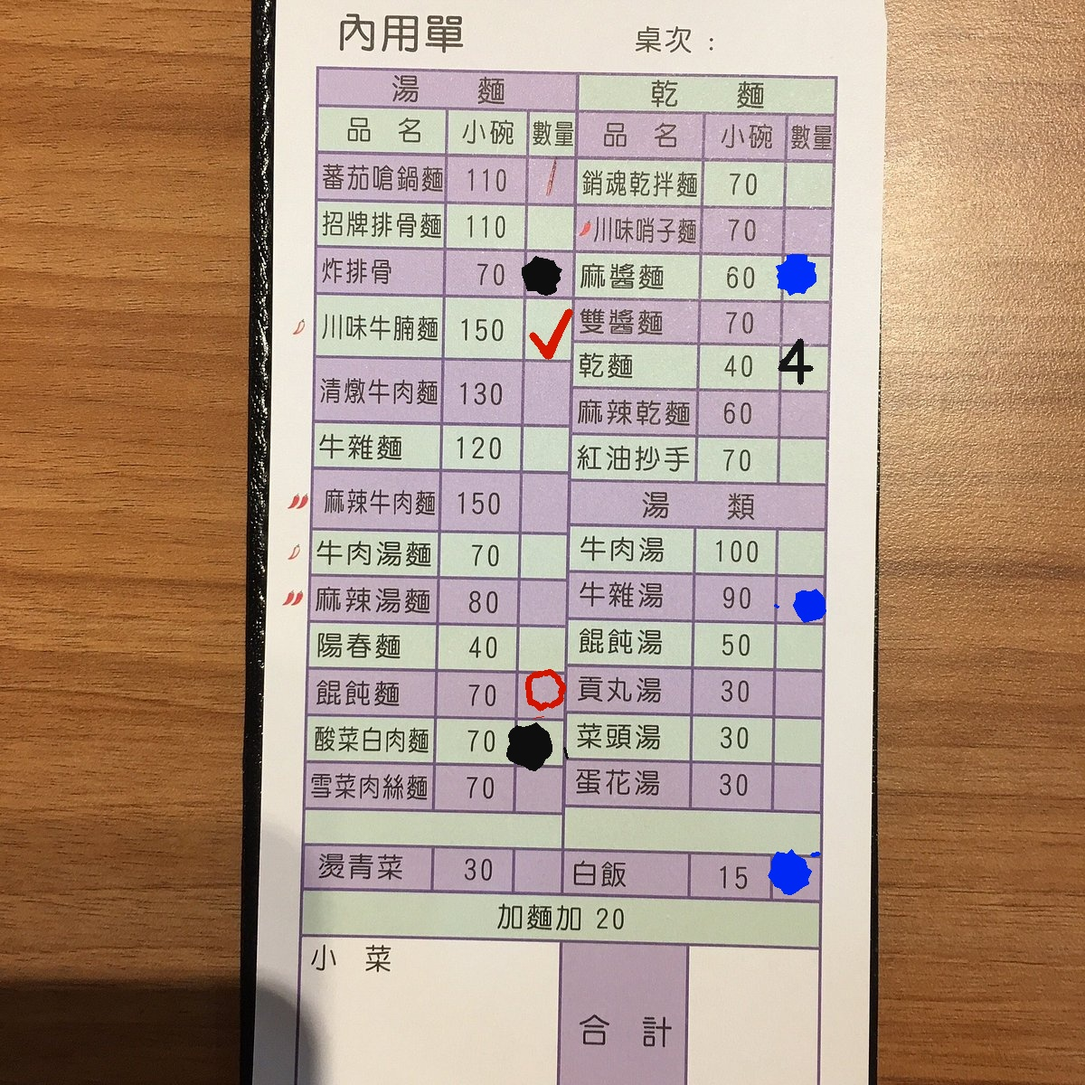marked_circle: (772, 854, 820, 901), (525, 251, 573, 297), (780, 255, 828, 301), (516, 716, 564, 762), (775, 575, 823, 621)
marked_hollow: (517, 670, 565, 716)
marked_number_4: (780, 344, 828, 391)
marked_tick: (524, 297, 570, 359)
